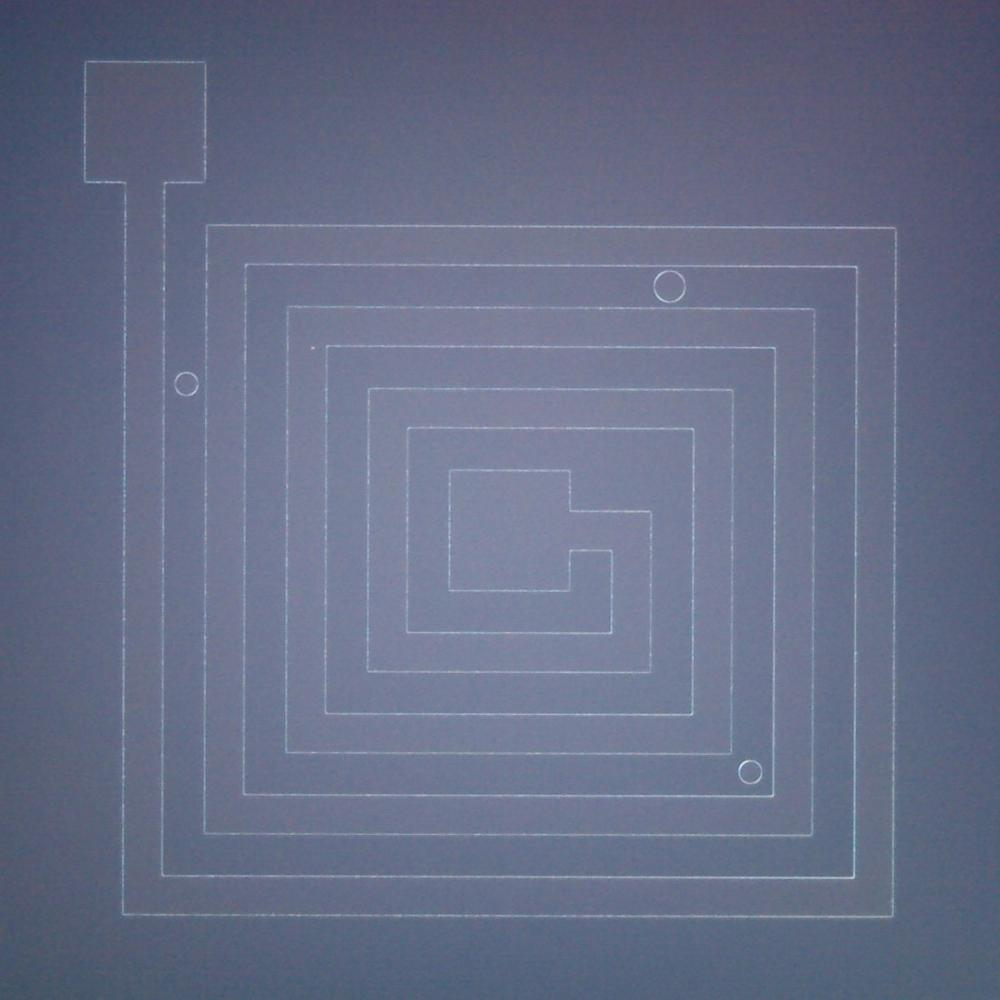dot: (311, 346, 315, 350)
